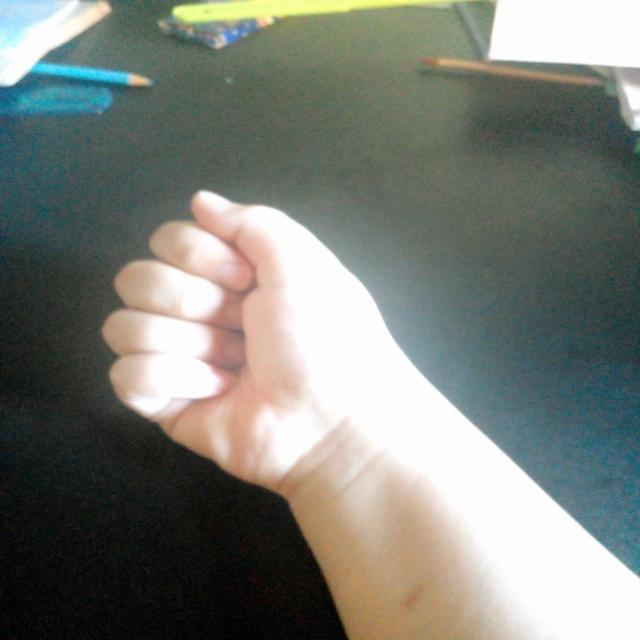Closed Hand: (90, 179, 407, 538)
